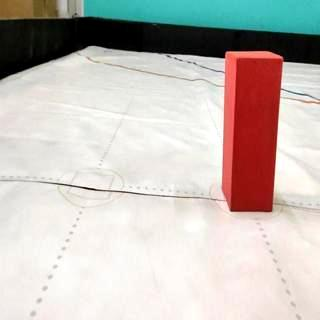redbox: (223, 50, 284, 214)
